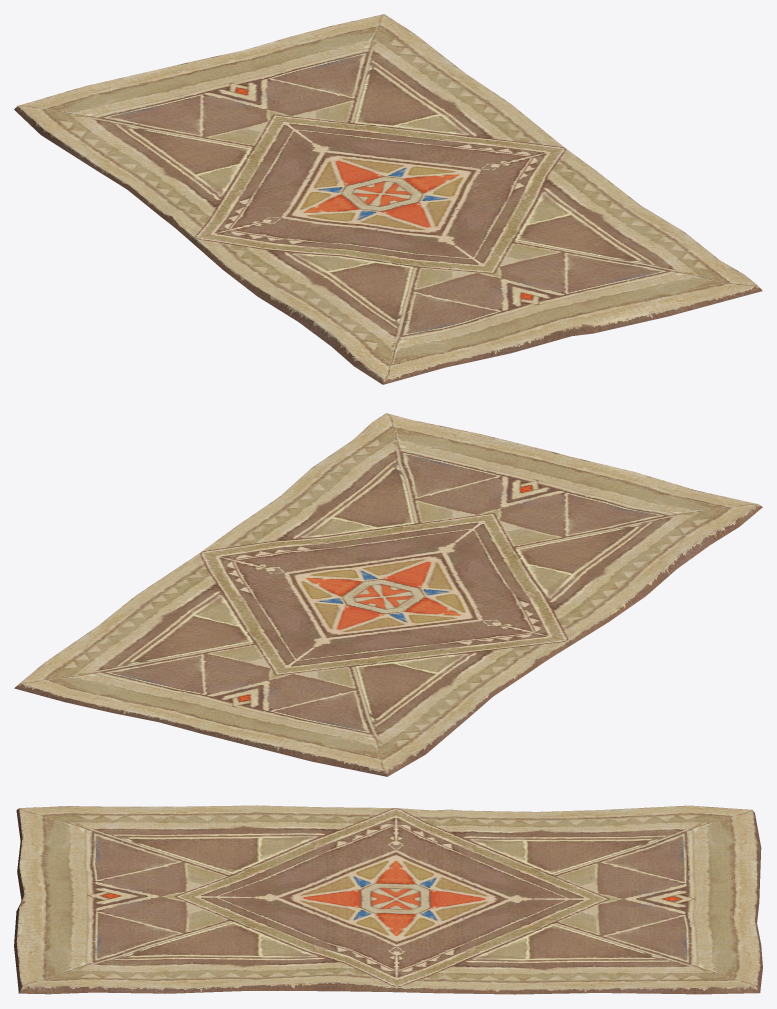
The model's file is Homeworld_Interior_Xm_Decoration_Prop_VillageCarpet_01_Vo.fbx.
The picture shows the model from 3 angles, top to bottom: view 1: azimuth 30°, elevation 25°; view 2: azimuth 150°, elevation 25°; view 3: azimuth 270°, elevation 25°; orthographic projection.
Visible parts, largest first — view 1: Indoor_Xm_Prop_Czj_Decoration_03_Vo; view 2: Indoor_Xm_Prop_Czj_Decoration_03_Vo; view 3: Indoor_Xm_Prop_Czj_Decoration_03_Vo.
Part boxes in pixels (x1,y1,x2,y2): Indoor_Xm_Prop_Czj_Decoration_03_Vo: [14, 14, 762, 384]; Indoor_Xm_Prop_Czj_Decoration_03_Vo: [14, 413, 762, 776]; Indoor_Xm_Prop_Czj_Decoration_03_Vo: [14, 805, 762, 994].
Bounding box in the file's own units: 2.91 × 0.0546 × 4.96.
Materials: 1 (1 with a texture image).
